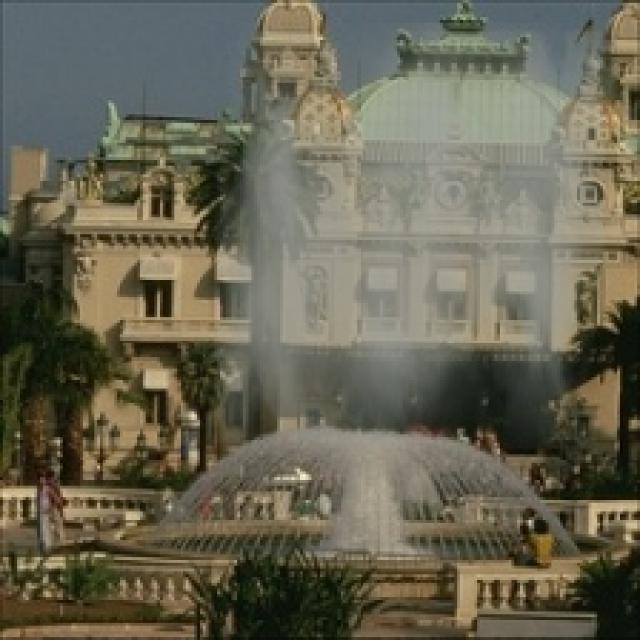smoke: (214, 23, 606, 448)
